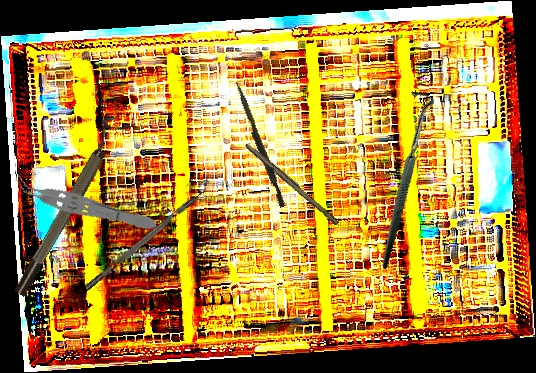Chopper: (78, 176, 216, 292)
Fixation Ring: (3, 112, 131, 299)
Hook Surgical: (311, 85, 492, 270)
Pusher: (230, 81, 289, 208)
Scalpel Handle: (243, 141, 342, 226)
Tissue Forceps: (10, 173, 160, 237)
